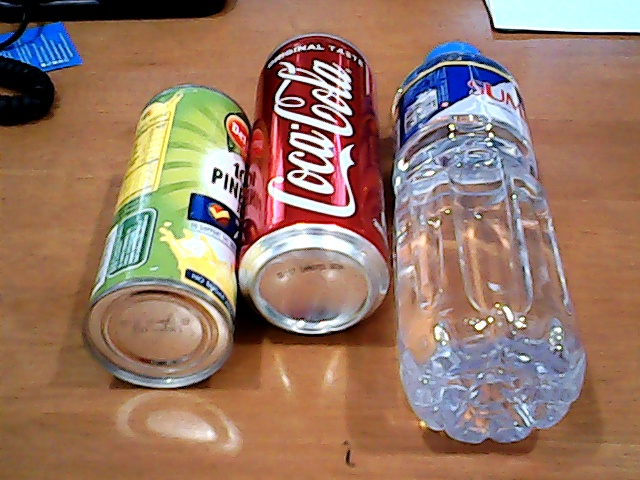Cola: (229, 19, 405, 337)
Pine Juice: (76, 70, 257, 396)
Summit Water: (382, 22, 602, 460)
